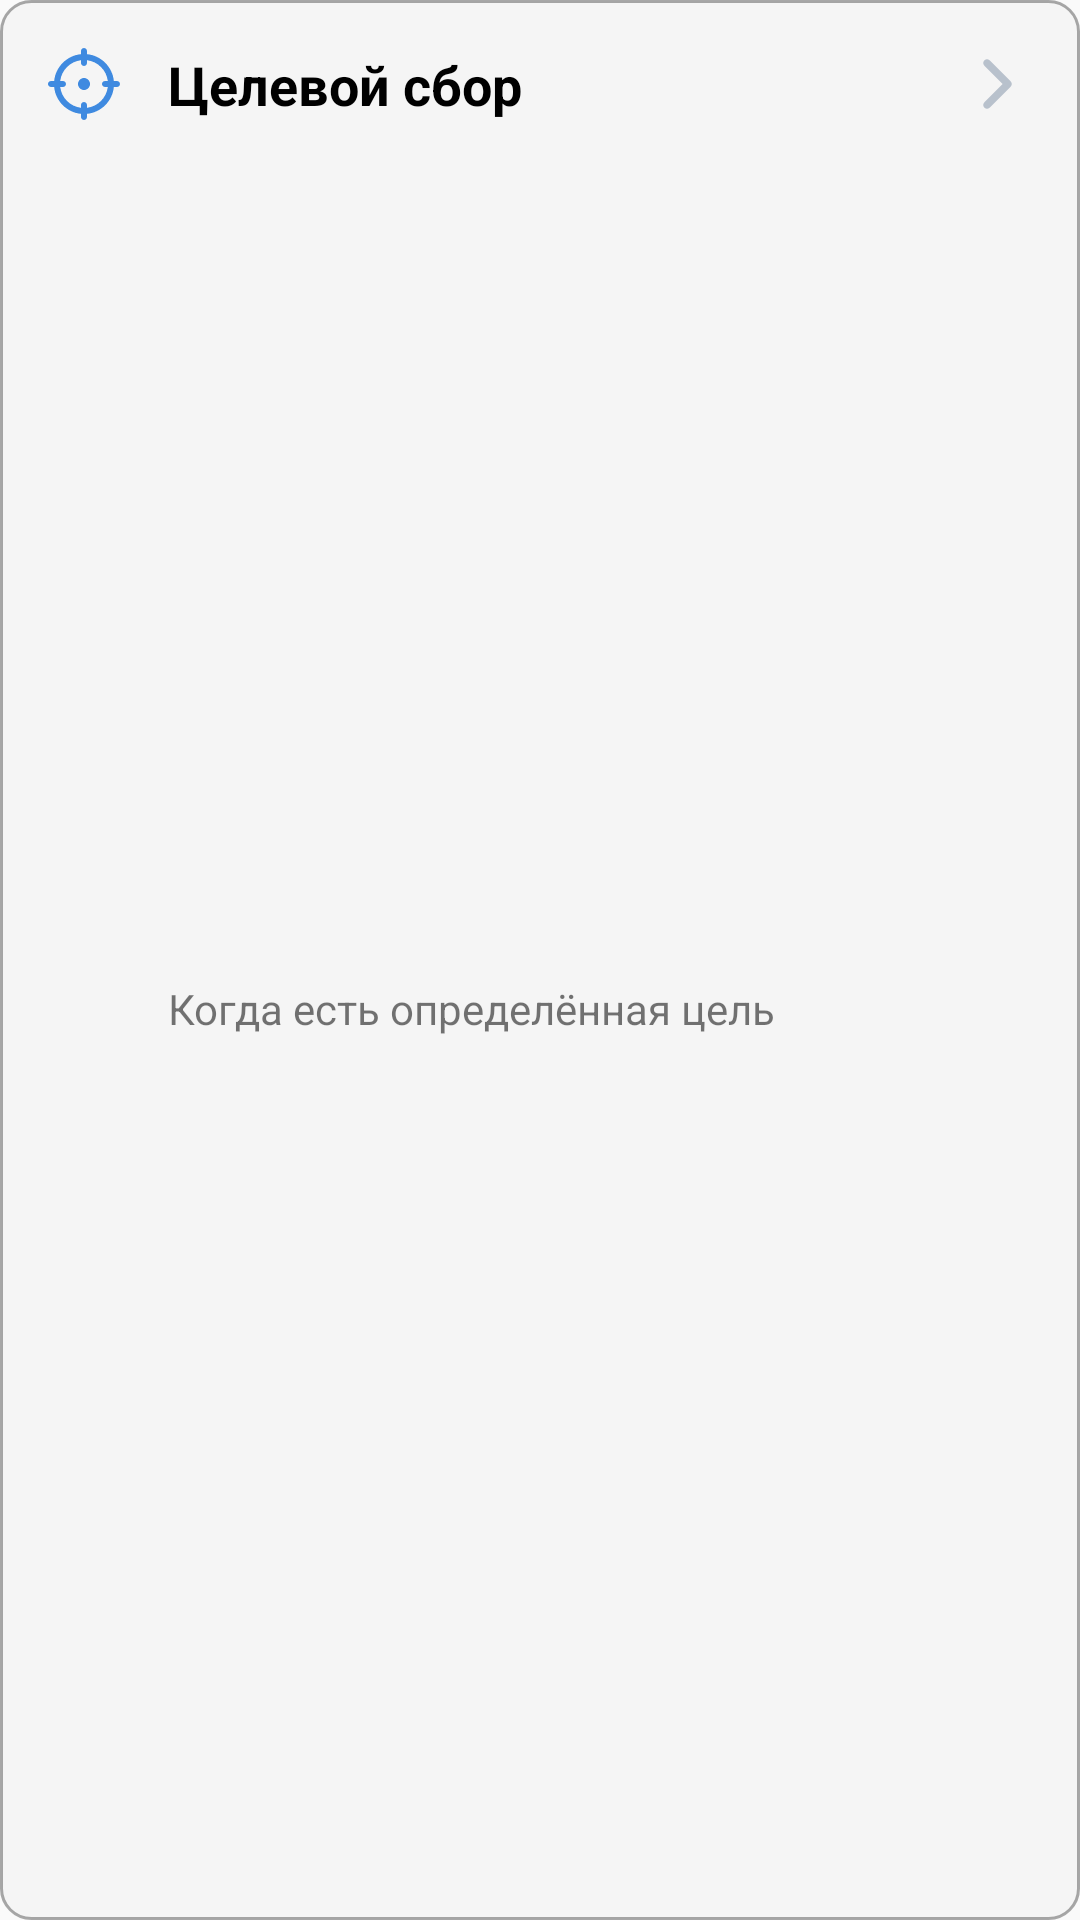

Icon click points for this 1080px×1920px phone screenshot, format [x,y]:
aim: [84,84]
chevron right: [997,84]
